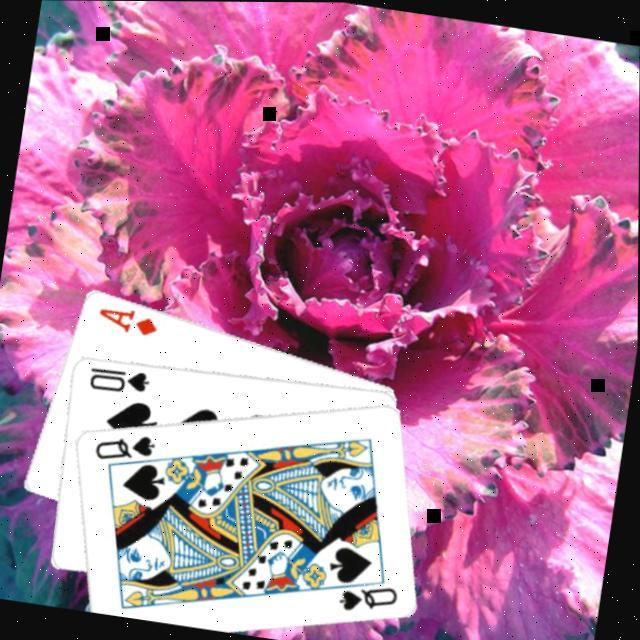10S: (87, 360, 156, 398)
AD: (96, 301, 164, 339)
QS: (92, 424, 162, 468), (337, 574, 405, 619)
